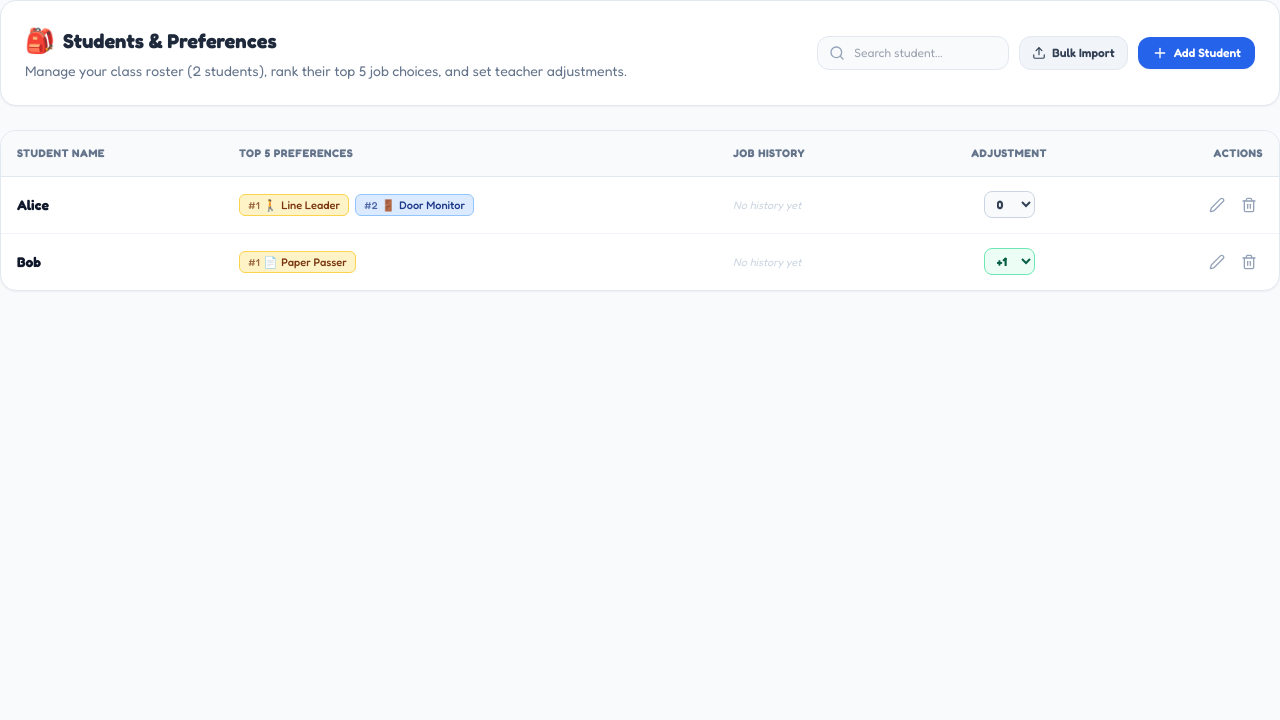
StudentManager › opens inline edit form for existing student
This screenshot has width=1280, height=720.
Click edit on Alice (first edit button)
Click the button named "edit student & preferences" in the row of "Alice".
click(1217, 204)  # box [1203,190,1231,218]
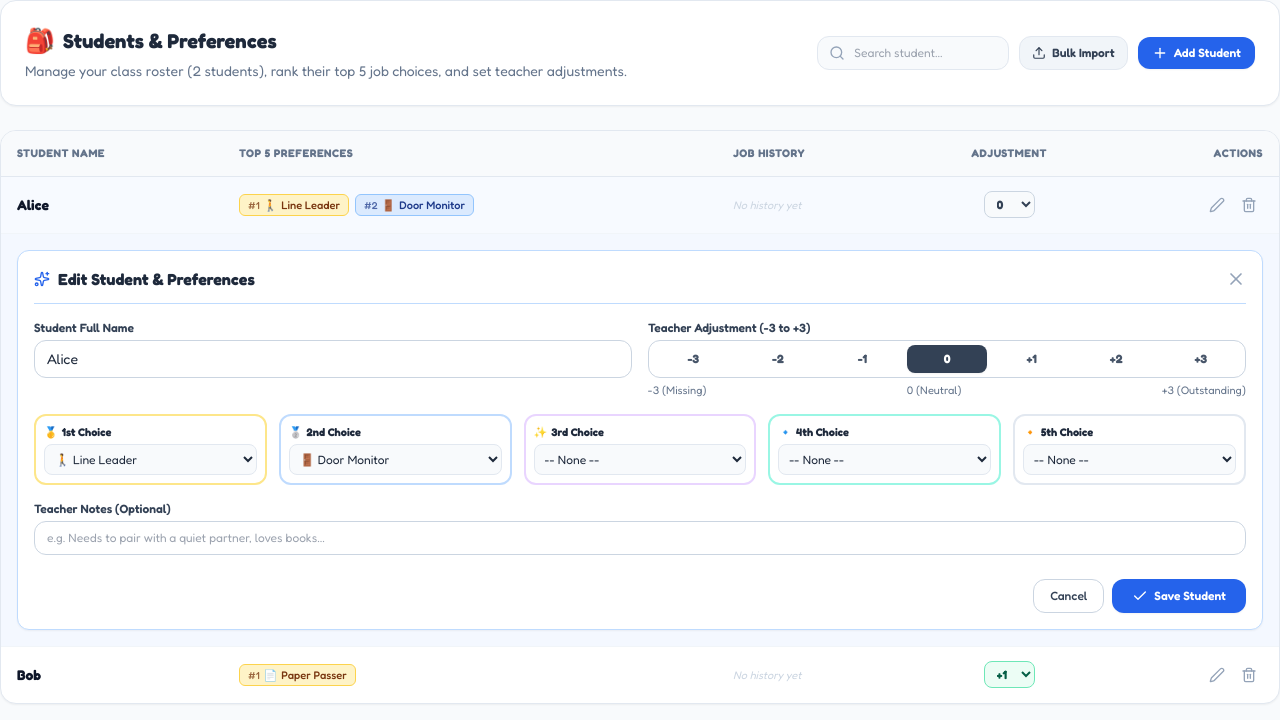
Result: the heading "Edit Student & Preferences" is shown at [34,266,255,290]
Result: the field with placeholder "e.g. Maya Lin" holds "Alice" at [34,340,632,378]
Result: the dropdown below "1st Choice" shows "🚶 Line Leader" at [44,444,257,474]
